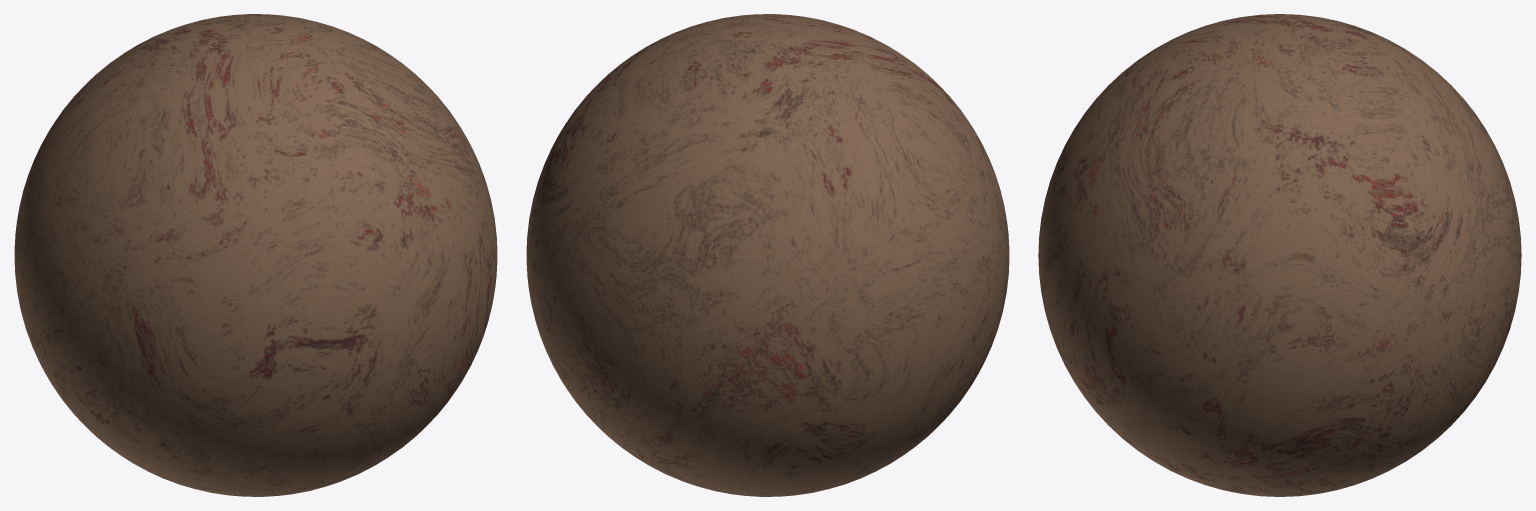
Rendered from ugnade.glb.
3 renders of one model, left to right at view 1: azimuth 30°, elevation 25°; view 2: azimuth 150°, elevation 25°; view 3: azimuth 270°, elevation 25°, orthographic.
Visible parts, largest first — view 1: Planet; view 2: Planet; view 3: Planet.
Part boxes in pixels (<box>): Planet: <box>14,14,497,496</box>; Planet: <box>526,14,1009,496</box>; Planet: <box>1038,14,1521,496</box>.
Bounding box in the file's own units: 5.87 × 5.87 × 5.87.
Materials: 1 (1 with a texture image).
